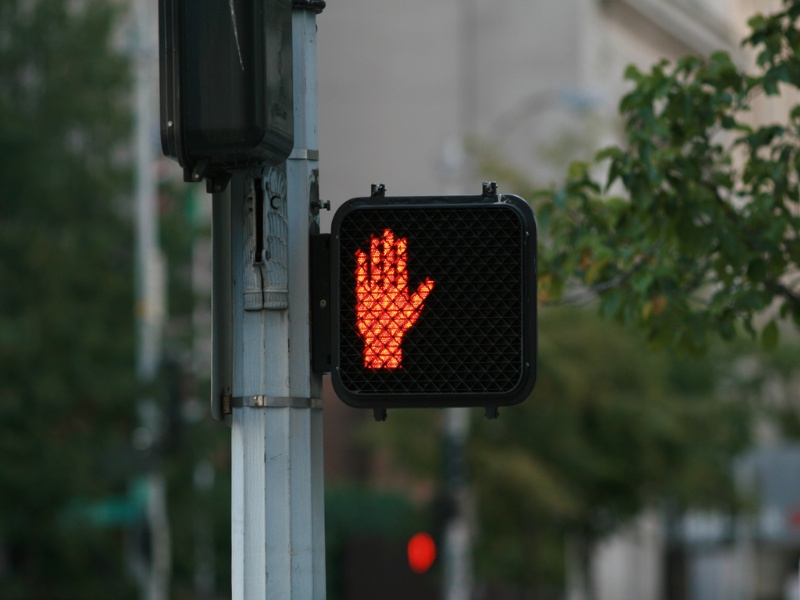red_light: (342, 198, 468, 384)
